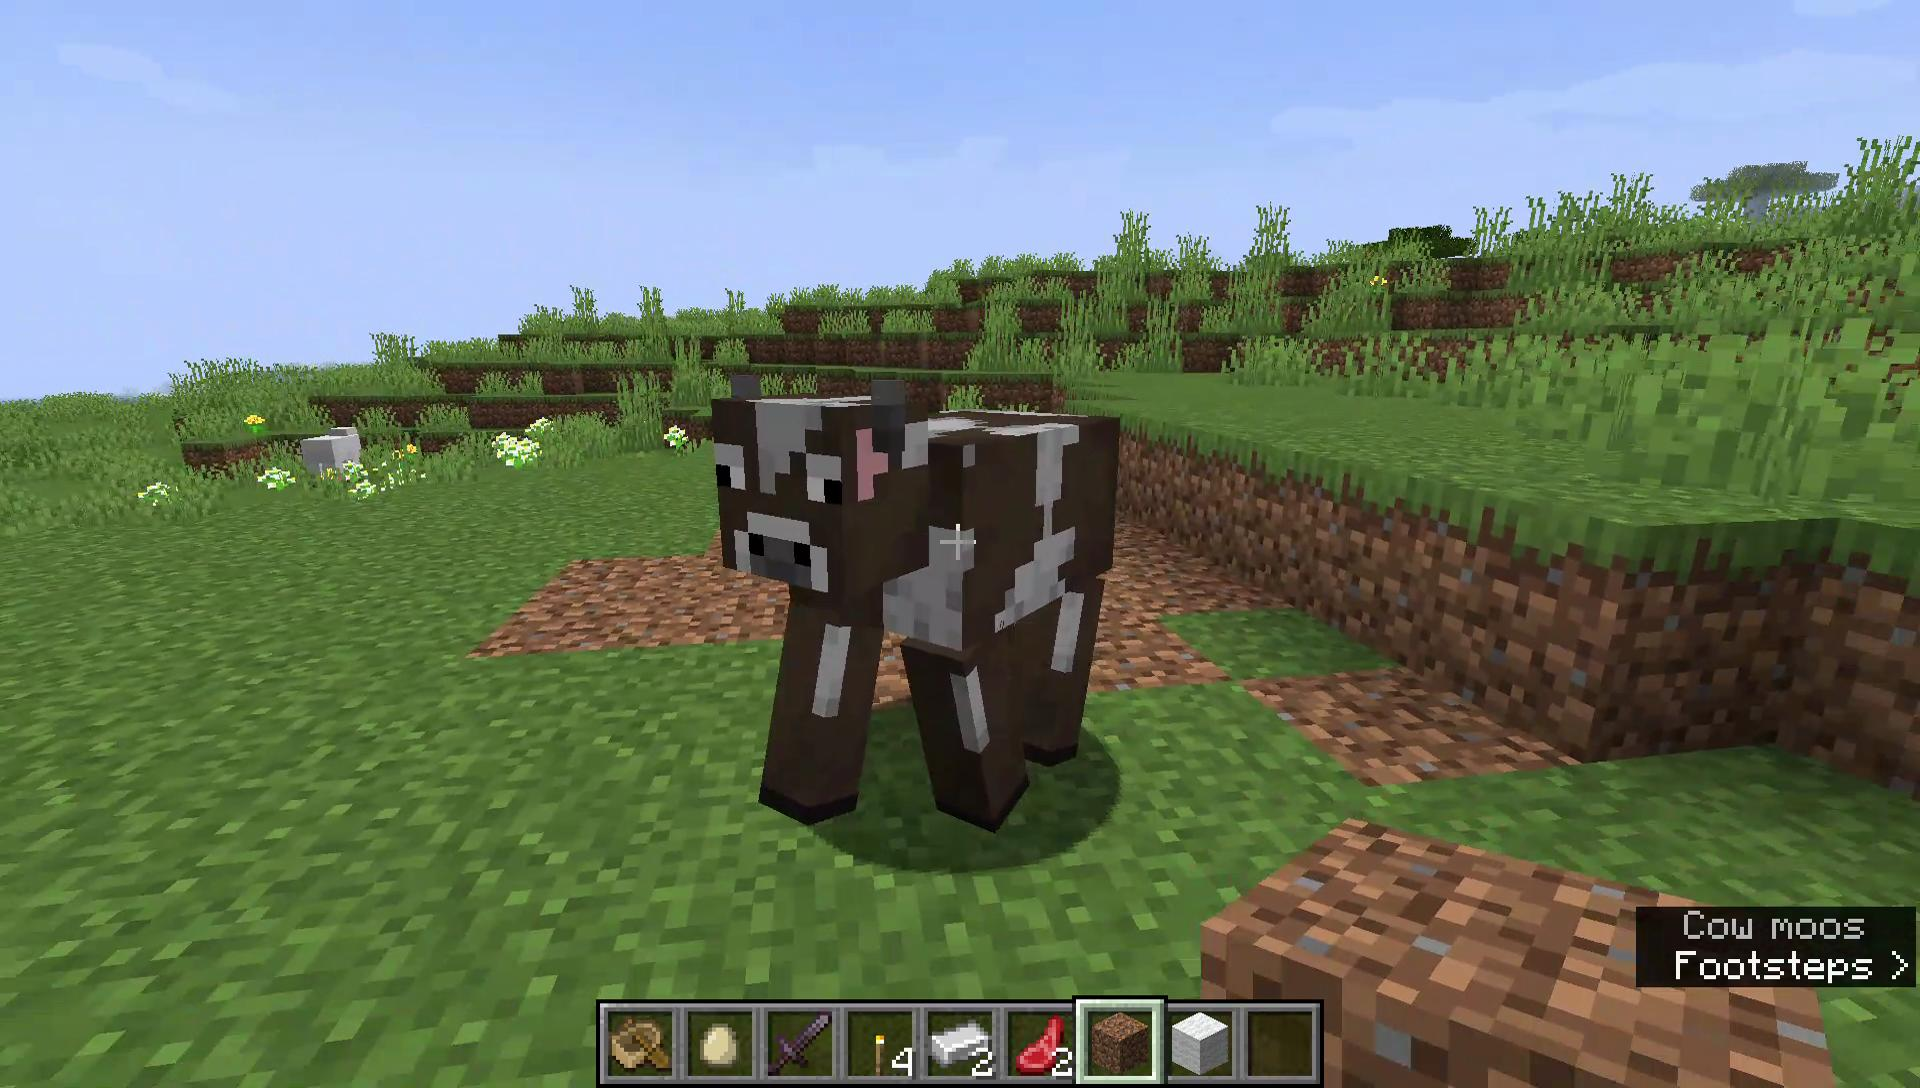cow: (703, 360, 1138, 845)
sheep: (301, 418, 367, 495)
